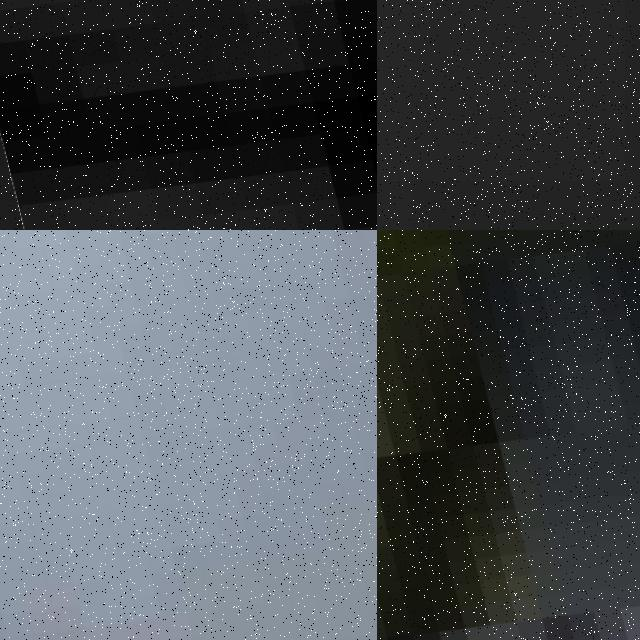0: (377, 230, 640, 640), (0, 0, 377, 230)
drone: (0, 230, 377, 640)
